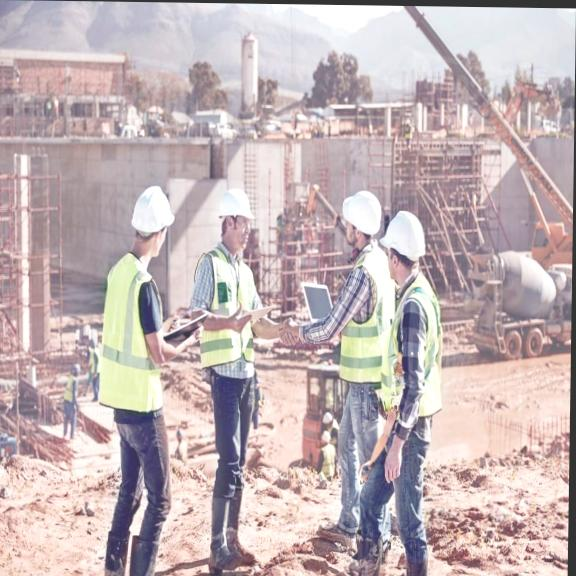safety_vest: (96, 251, 172, 420), (332, 242, 386, 389), (199, 259, 262, 379)
